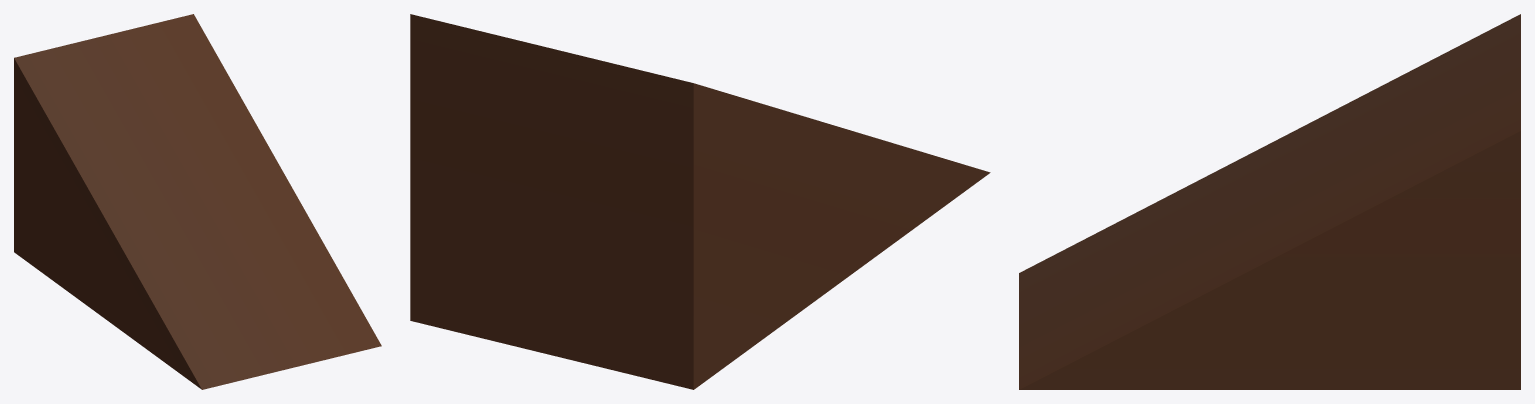
File: BaseRamp.010.glb
The picture shows the model from 3 angles, left to right: view 1: azimuth 30°, elevation 25°; view 2: azimuth 150°, elevation 25°; view 3: azimuth 270°, elevation 25°; orthographic projection. The views are drawn at different scales.
Visible parts, largest first — view 1: BaseRamp.010; view 2: BaseRamp.010; view 3: BaseRamp.010.
Part boxes in pixels (x1,y1,x2,y2): BaseRamp.010: (14, 14, 381, 389); BaseRamp.010: (410, 14, 990, 389); BaseRamp.010: (1019, 14, 1520, 389).
Size of what is drawn, in the model's own units: 1.85 by 1.91 by 3.35.
Materials: 1 (1 with a texture image).
